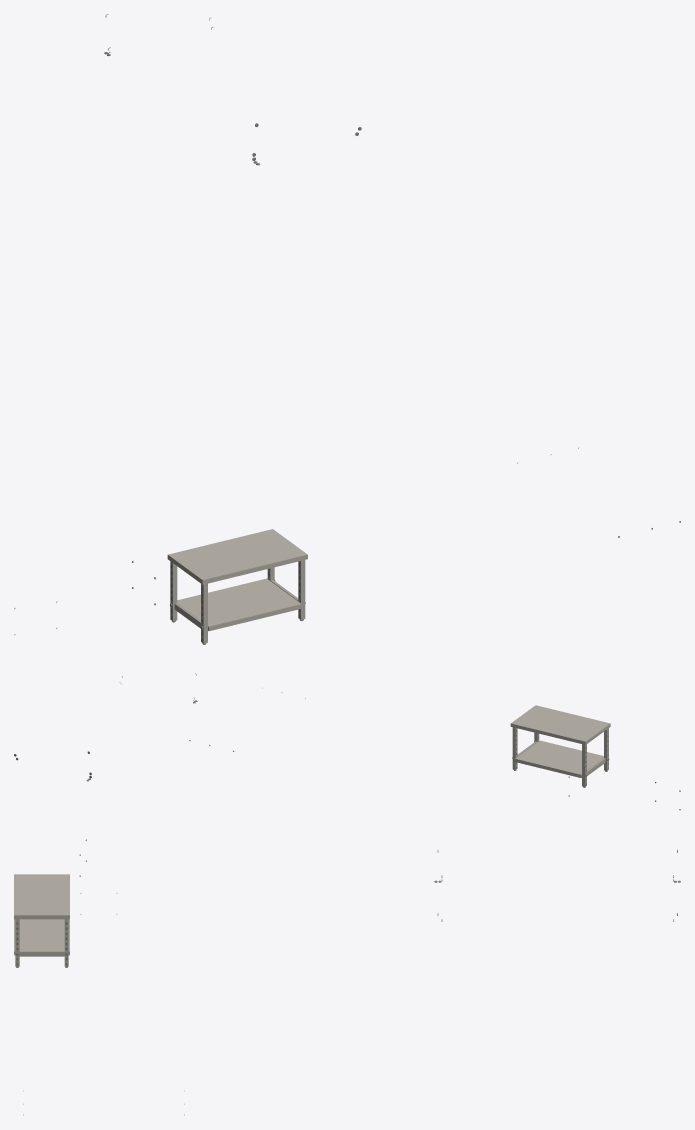
Rendered from kd_stage_135d18_4_69.glb.
The picture shows the model from 3 angles, top to bottom: view 1: azimuth 30°, elevation 25°; view 2: azimuth 150°, elevation 25°; view 3: azimuth 270°, elevation 25°; orthographic projection. The views are drawn at different scales.
Parts seen in each view (by area): view 1: kd_stage_135d18_4_69; view 2: kd_stage_135d18_4_69; view 3: kd_stage_135d18_4_69.
Boxes of the visible parts, x1,y1,x2,y2 form: kd_stage_135d18_4_69: [14, 14, 680, 644]; kd_stage_135d18_4_69: [14, 673, 680, 810]; kd_stage_135d18_4_69: [14, 839, 680, 1115].
Bounding box in the file's own units: 7.11 × 2.73 × 8.15.
Materials: 1 (1 with a texture image).
